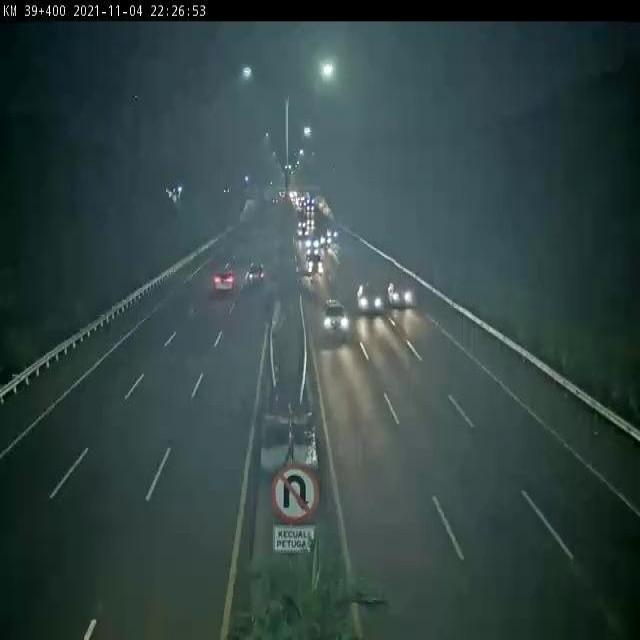car: (321, 298, 351, 338), (387, 276, 415, 309), (355, 279, 380, 312), (247, 263, 266, 288), (214, 268, 234, 291), (305, 255, 323, 277)
